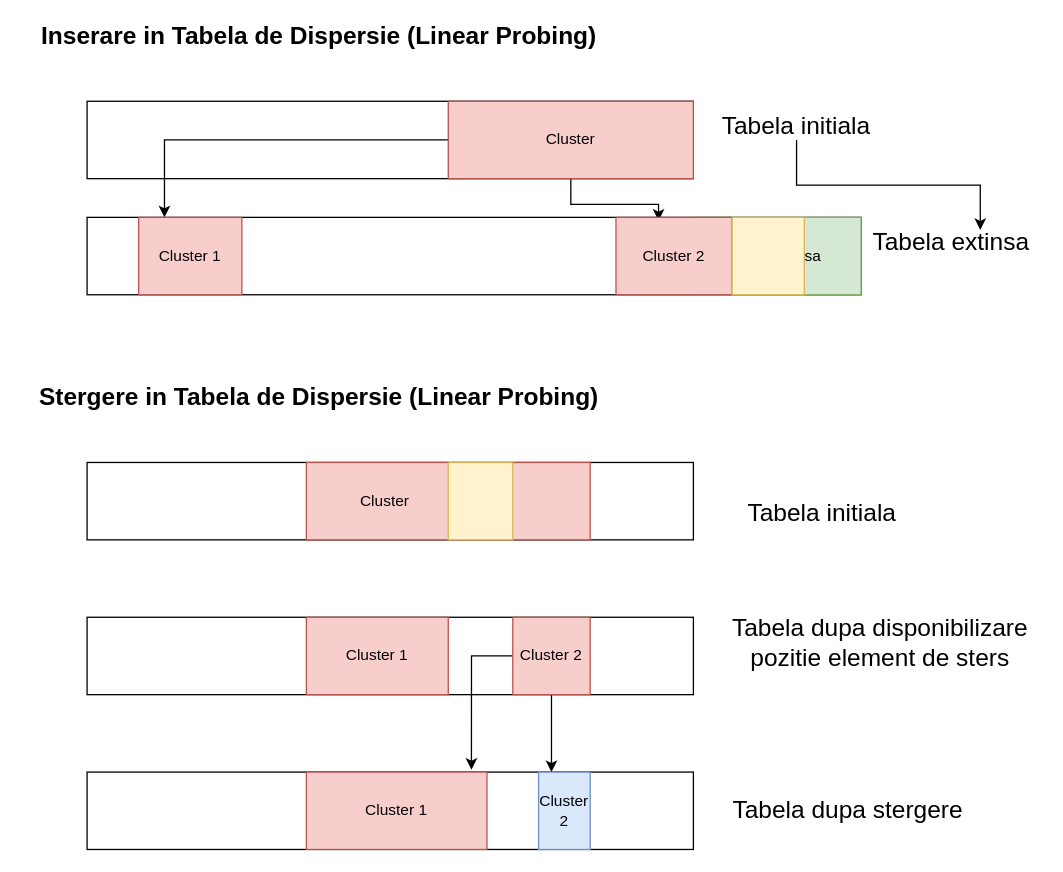
Image size: 1063x872. Some labels were removed from this diagram. The shapes that lost their labels are listed below. From the top down, each one's centre as x and y in pixels, then its label:
point (767, 255): Element de inserat
point (480, 500): Element sters
